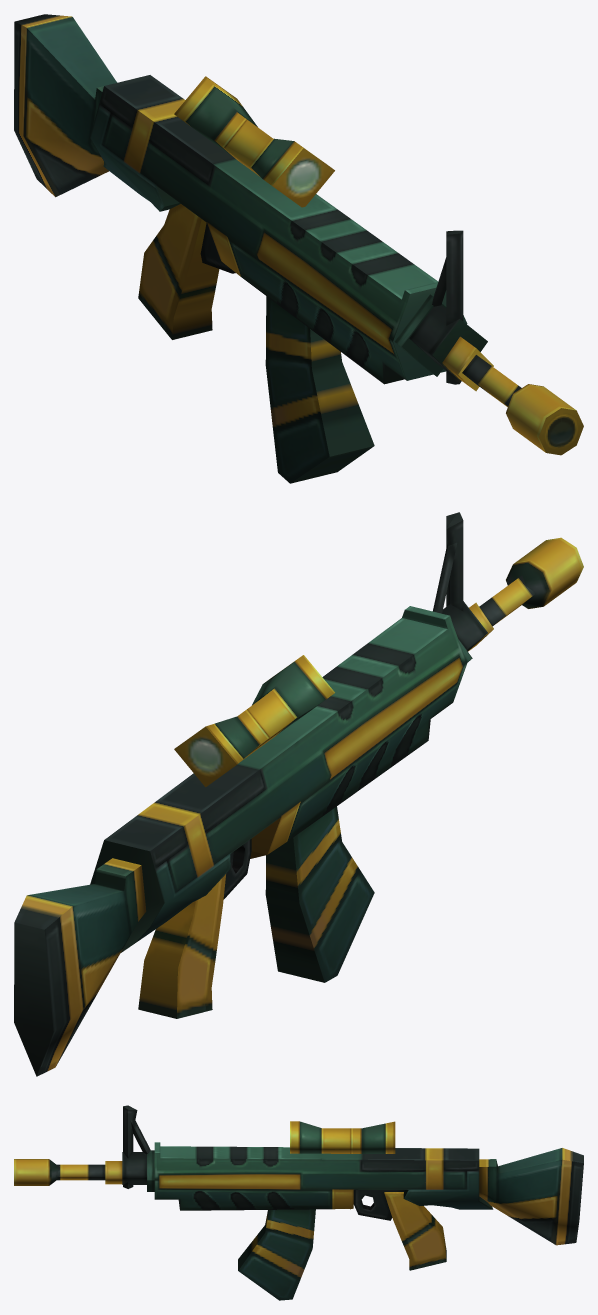
File: Ty_buff_gun01_m.FBX
3 renders of one model, top to bottom at view 1: azimuth 30°, elevation 25°; view 2: azimuth 150°, elevation 25°; view 3: azimuth 270°, elevation 25°, orthographic. The views are drawn at different scales.
Visible parts, largest first — view 1: Ty_buff_gun01_m; view 2: Ty_buff_gun01_m; view 3: Ty_buff_gun01_m.
Boxes of the visible parts, x1,y1,x2,y2 form: Ty_buff_gun01_m: [14, 14, 583, 483]; Ty_buff_gun01_m: [14, 512, 583, 1076]; Ty_buff_gun01_m: [14, 1105, 583, 1300].
Bounding box in the file's own units: 4.42 × 19.96 × 54.81.
